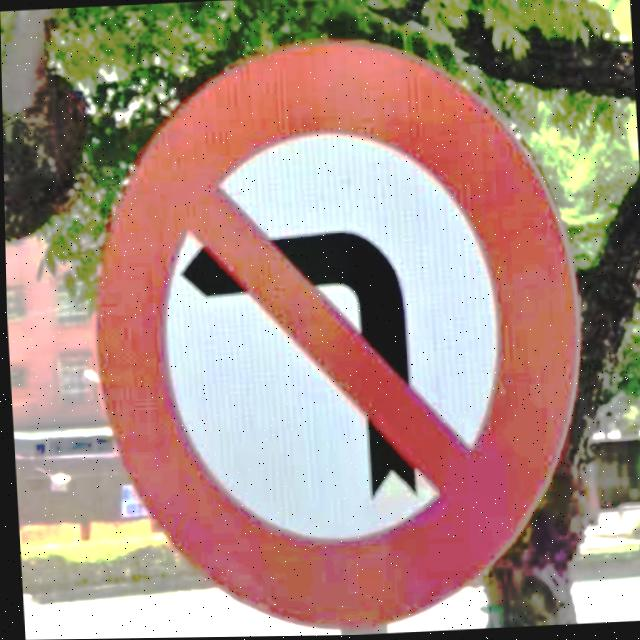noturnleft: (91, 43, 579, 632)
